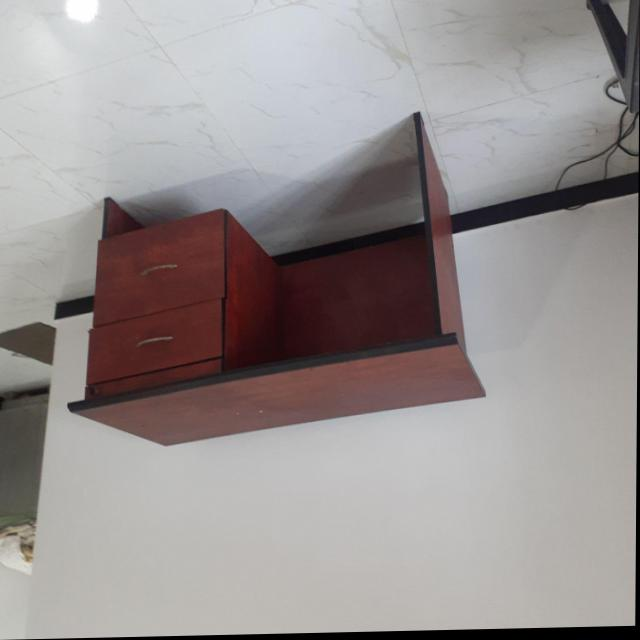Table: (44, 96, 505, 462)
